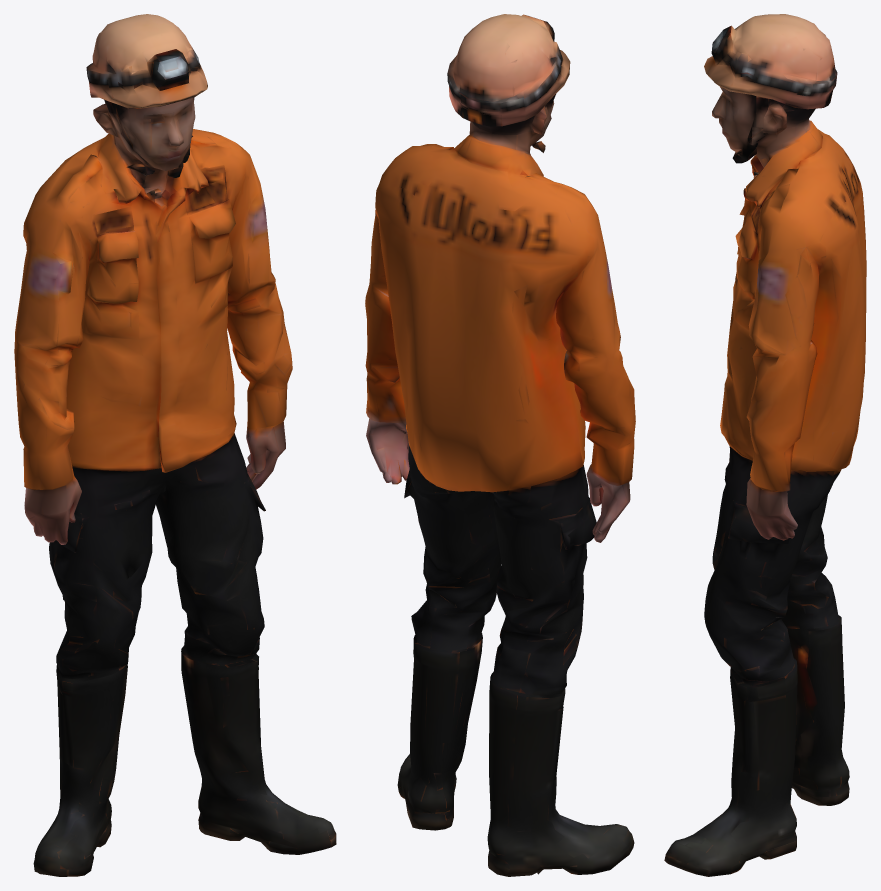
The model's file is sar_idle.glb.
3 views of the same model, side by side, from view 1: azimuth 30°, elevation 25°; view 2: azimuth 150°, elevation 25°; view 3: azimuth 270°, elevation 25° (orthographic). The views are drawn at different scales.
Parts seen in each view (by area): view 1: tripo_node_9d613125; view 2: tripo_node_9d613125; view 3: tripo_node_9d613125.
Boxes of the visible parts, x1,y1,x2,y2 form: tripo_node_9d613125: [14, 14, 336, 876]; tripo_node_9d613125: [365, 14, 635, 876]; tripo_node_9d613125: [664, 14, 866, 876].
Bounding box in the file's own units: 34.14 × 99.72 × 23.08.
Materials: 1 (1 with a texture image).
